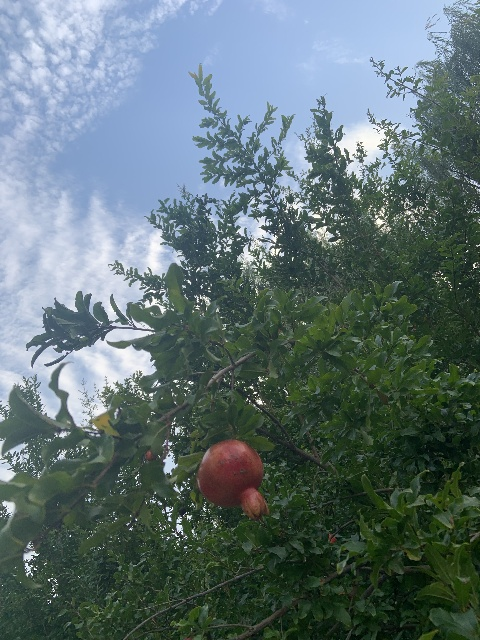ripe: (196, 439, 268, 520)
